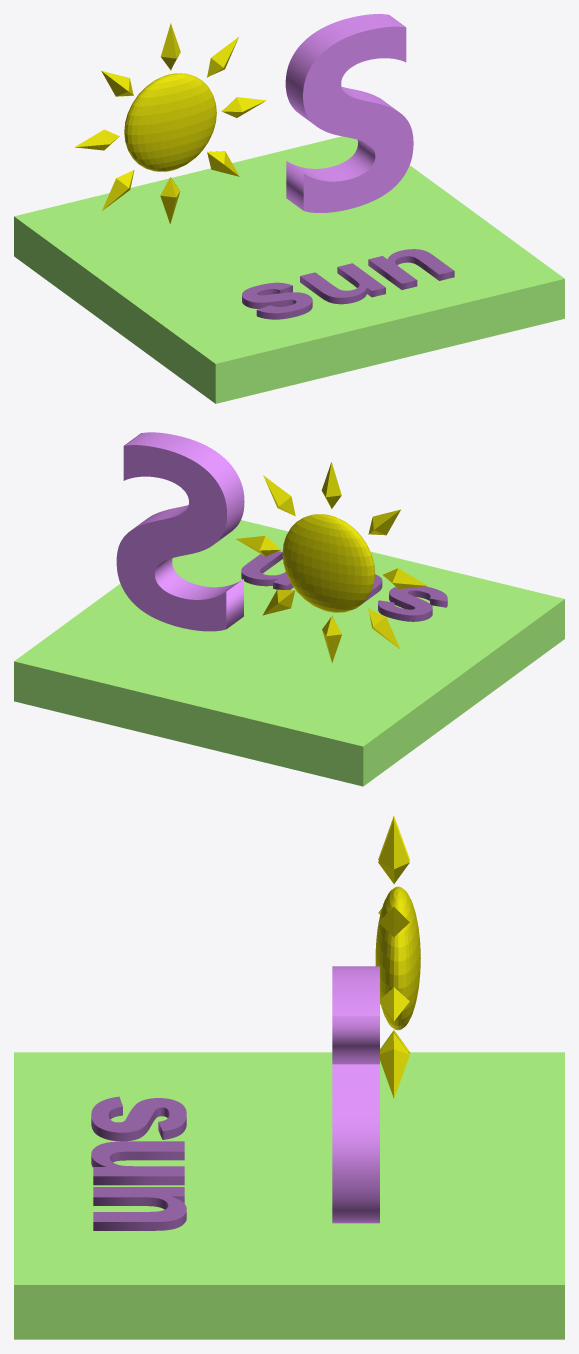
The model's file is sletter.glb.
3 views of the same model, one above another, from view 1: azimuth 30°, elevation 25°; view 2: azimuth 150°, elevation 25°; view 3: azimuth 270°, elevation 25° (orthographic). The views are drawn at different scales.
Parts seen in each view (by area): view 1: Cube.022, Text.003, Sphere, Text.002, Cone.006, Cone, Cone.005, Cone.007, Cone.002, Cone.003, Cone.004, Cone.001; view 2: Cube.022, Text.003, Sphere, Text.002, Cone.007, Cone.004, Cone.001, Cone.006, Cone.002, Cone.005, Cone, Cone.003; view 3: Cube.022, Text.003, Text.002, Sphere, Cone.002, Cone.004.
Part boxes in pixels (x1,y1,x2,y2): Cube.022: (14,136,564,403); Text.003: (285,14,413,212); Sphere: (124,73,216,171); Text.002: (242,249,454,319); Cone.006: (102,170,134,210); Cone: (74,129,119,150); Cone.005: (160,177,180,223); Cone.007: (206,37,238,77); Cone.002: (207,151,239,176); Cone.003: (101,71,133,96); Cone.004: (160,23,180,70); Cone.001: (221,97,266,117); Cube.022: (14,520,564,786); Text.003: (116,432,244,631); Sphere: (282,514,375,612); Text.002: (241,551,447,621); Cone.007: (263,475,295,516); Cone.004: (321,462,341,509); Cone.001: (236,535,280,556); Cone.006: (368,608,400,649); Cone.002: (262,589,295,615); Cone.005: (322,616,341,662); Cone: (383,568,427,589); Cone.003: (368,509,400,535); Cube.022: (14,1052,564,1339); Text.003: (332,966,379,1223); Text.002: (91,1096,186,1230); Sphere: (375,886,420,1030); Cone.002: (380,1032,409,1098); Cone.004: (378,820,409,884).
Bounding box in the file's own units: 0.326 × 0.227 × 0.3237.
